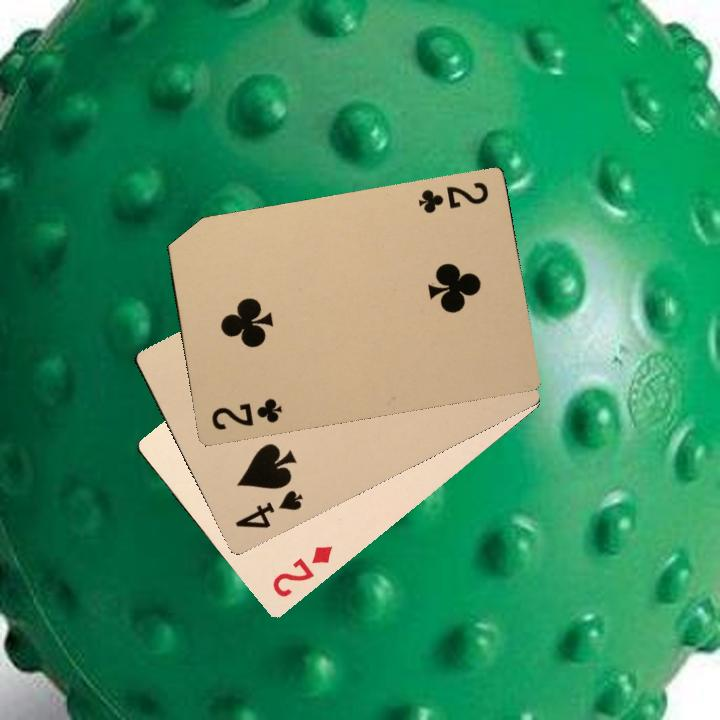2c: (207, 394, 285, 433), (414, 178, 491, 216)
2d: (268, 541, 335, 600)
4s: (231, 485, 306, 531)
